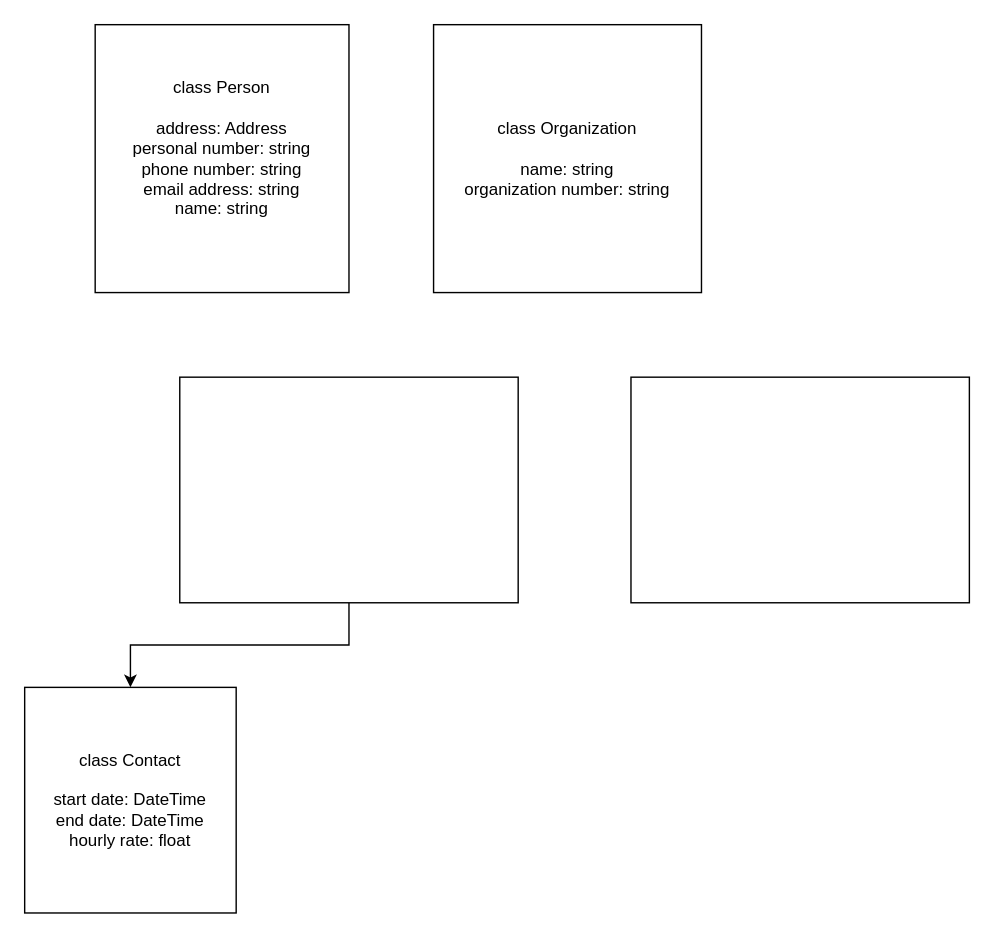
The diagram is 994 pixels wide and 938 high, and some of its shapes have lost their labels. The shapes that lost their labels are listed below. From the top down, each one's centre as x and y in pixels, then its label:
pixel 348 489: class Client : Organization
pixel 799 489: class Salt : Organization
